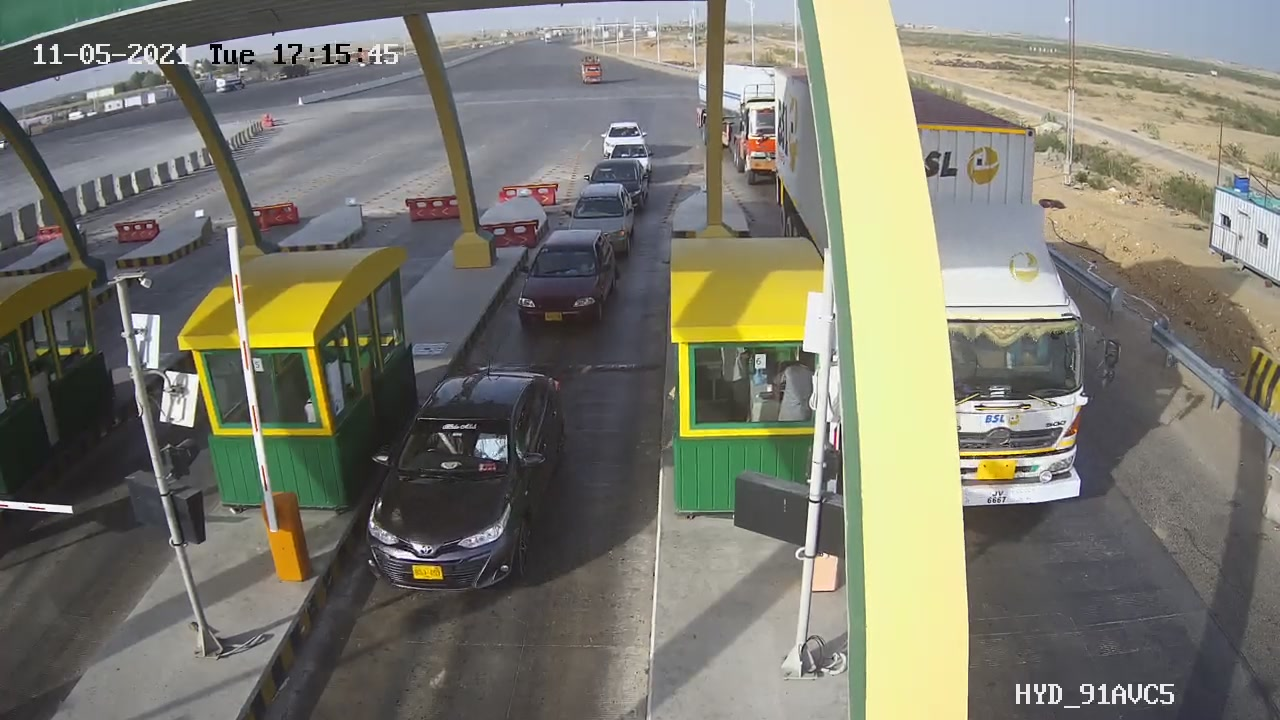F1: (343, 351, 585, 607), (503, 220, 631, 342)
